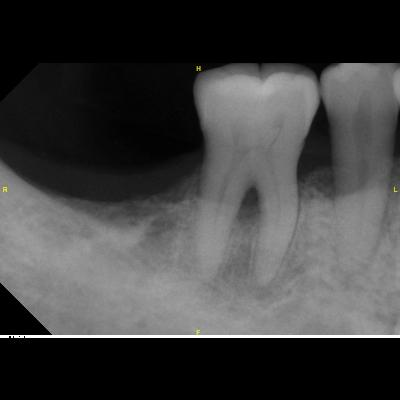tooth: (320, 63, 400, 277)
